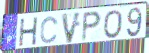9: (125, 7, 144, 38)
C: (39, 15, 60, 45)
H: (18, 16, 39, 48)
O: (102, 9, 124, 40)
P: (80, 10, 103, 43)
V: (60, 11, 83, 46)
